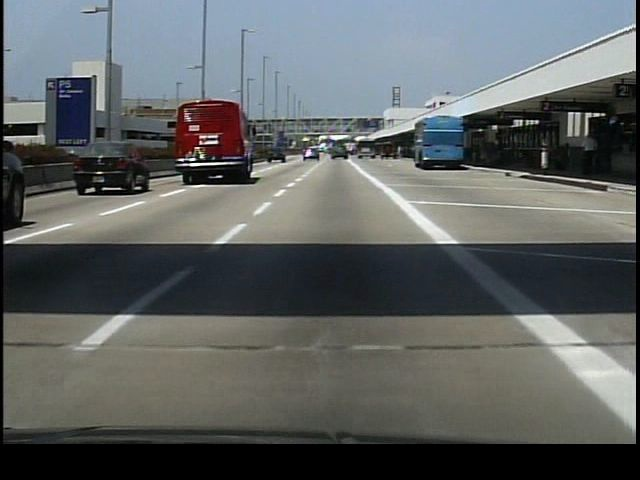person: (580, 132, 599, 179)
